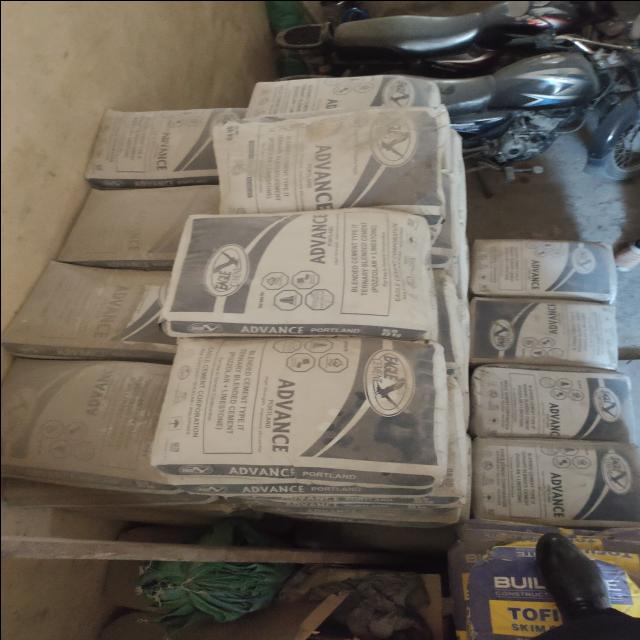Cement: (178, 218, 440, 337), (177, 343, 437, 460), (212, 120, 444, 212), (10, 359, 169, 477), (471, 369, 632, 440), (480, 444, 640, 515), (19, 271, 173, 340), (58, 188, 212, 257), (93, 106, 247, 175), (476, 237, 612, 298), (477, 305, 613, 366), (259, 80, 418, 113)
